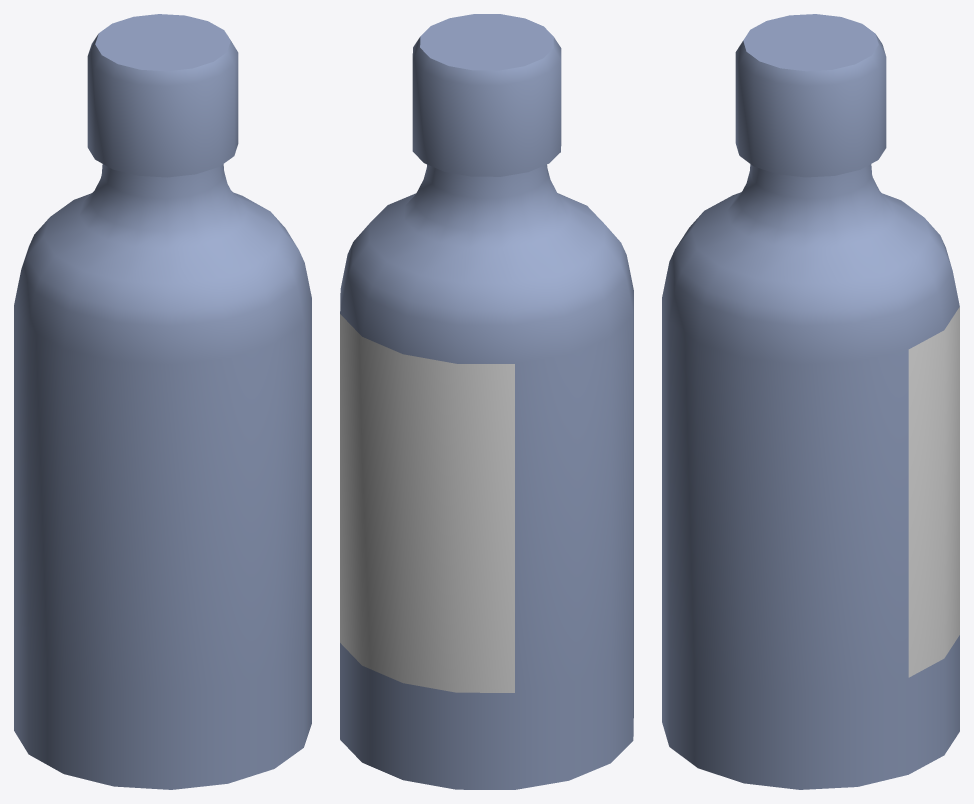
Rendered from Bouteille_2.fbx.
3 views of the same model, side by side, from view 1: azimuth 30°, elevation 25°; view 2: azimuth 150°, elevation 25°; view 3: azimuth 270°, elevation 25° (orthographic).
Parts seen in each view (by area): view 1: TAG_bouteille2; view 2: TAG_bouteille2; view 3: TAG_bouteille2.
Boxes of the visible parts, x1,y1,x2,y2 form: TAG_bouteille2: (14, 14, 311, 789); TAG_bouteille2: (340, 14, 633, 789); TAG_bouteille2: (662, 14, 959, 789).
Size of the model in its own units: 0.1381 by 0.1381 by 0.3503.
